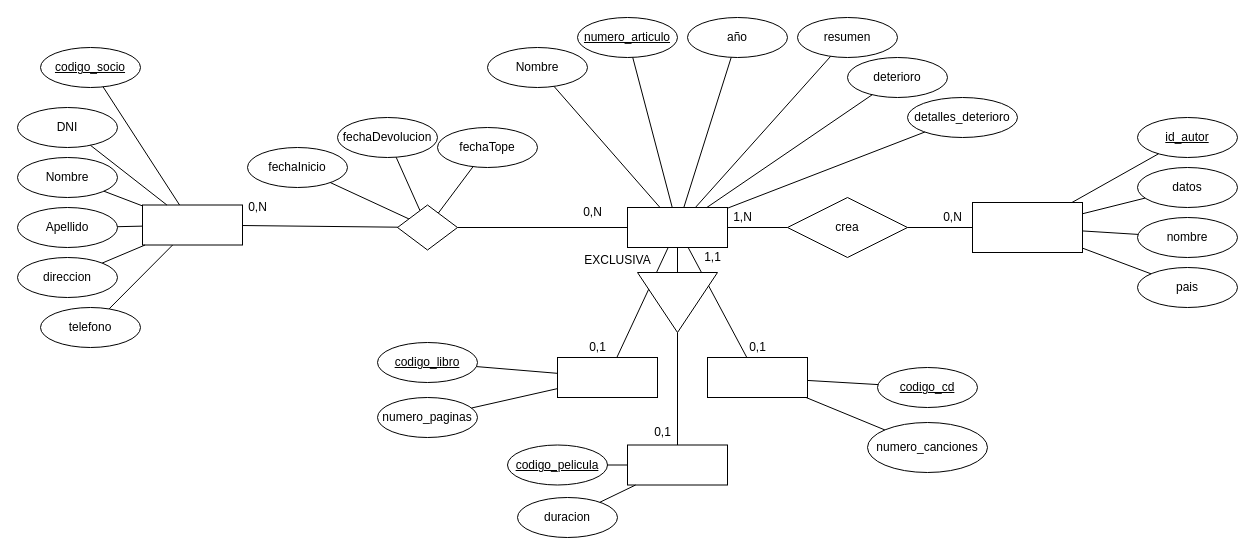
Image size: 1255x555. Some labels were removed from this diagram. The centre of each missing label's shape, as x and y in pixels:
"ARTICULO" belongs at (x=677, y=227).
"AUTOR" belongs at (x=1027, y=227).
"CD" belongs at (x=757, y=377).
"LIBRO" belongs at (x=607, y=377).
"PELICULA" belongs at (x=677, y=464).
"presta" belongs at (x=427, y=227).
"SOCIO" belongs at (x=192, y=224).
